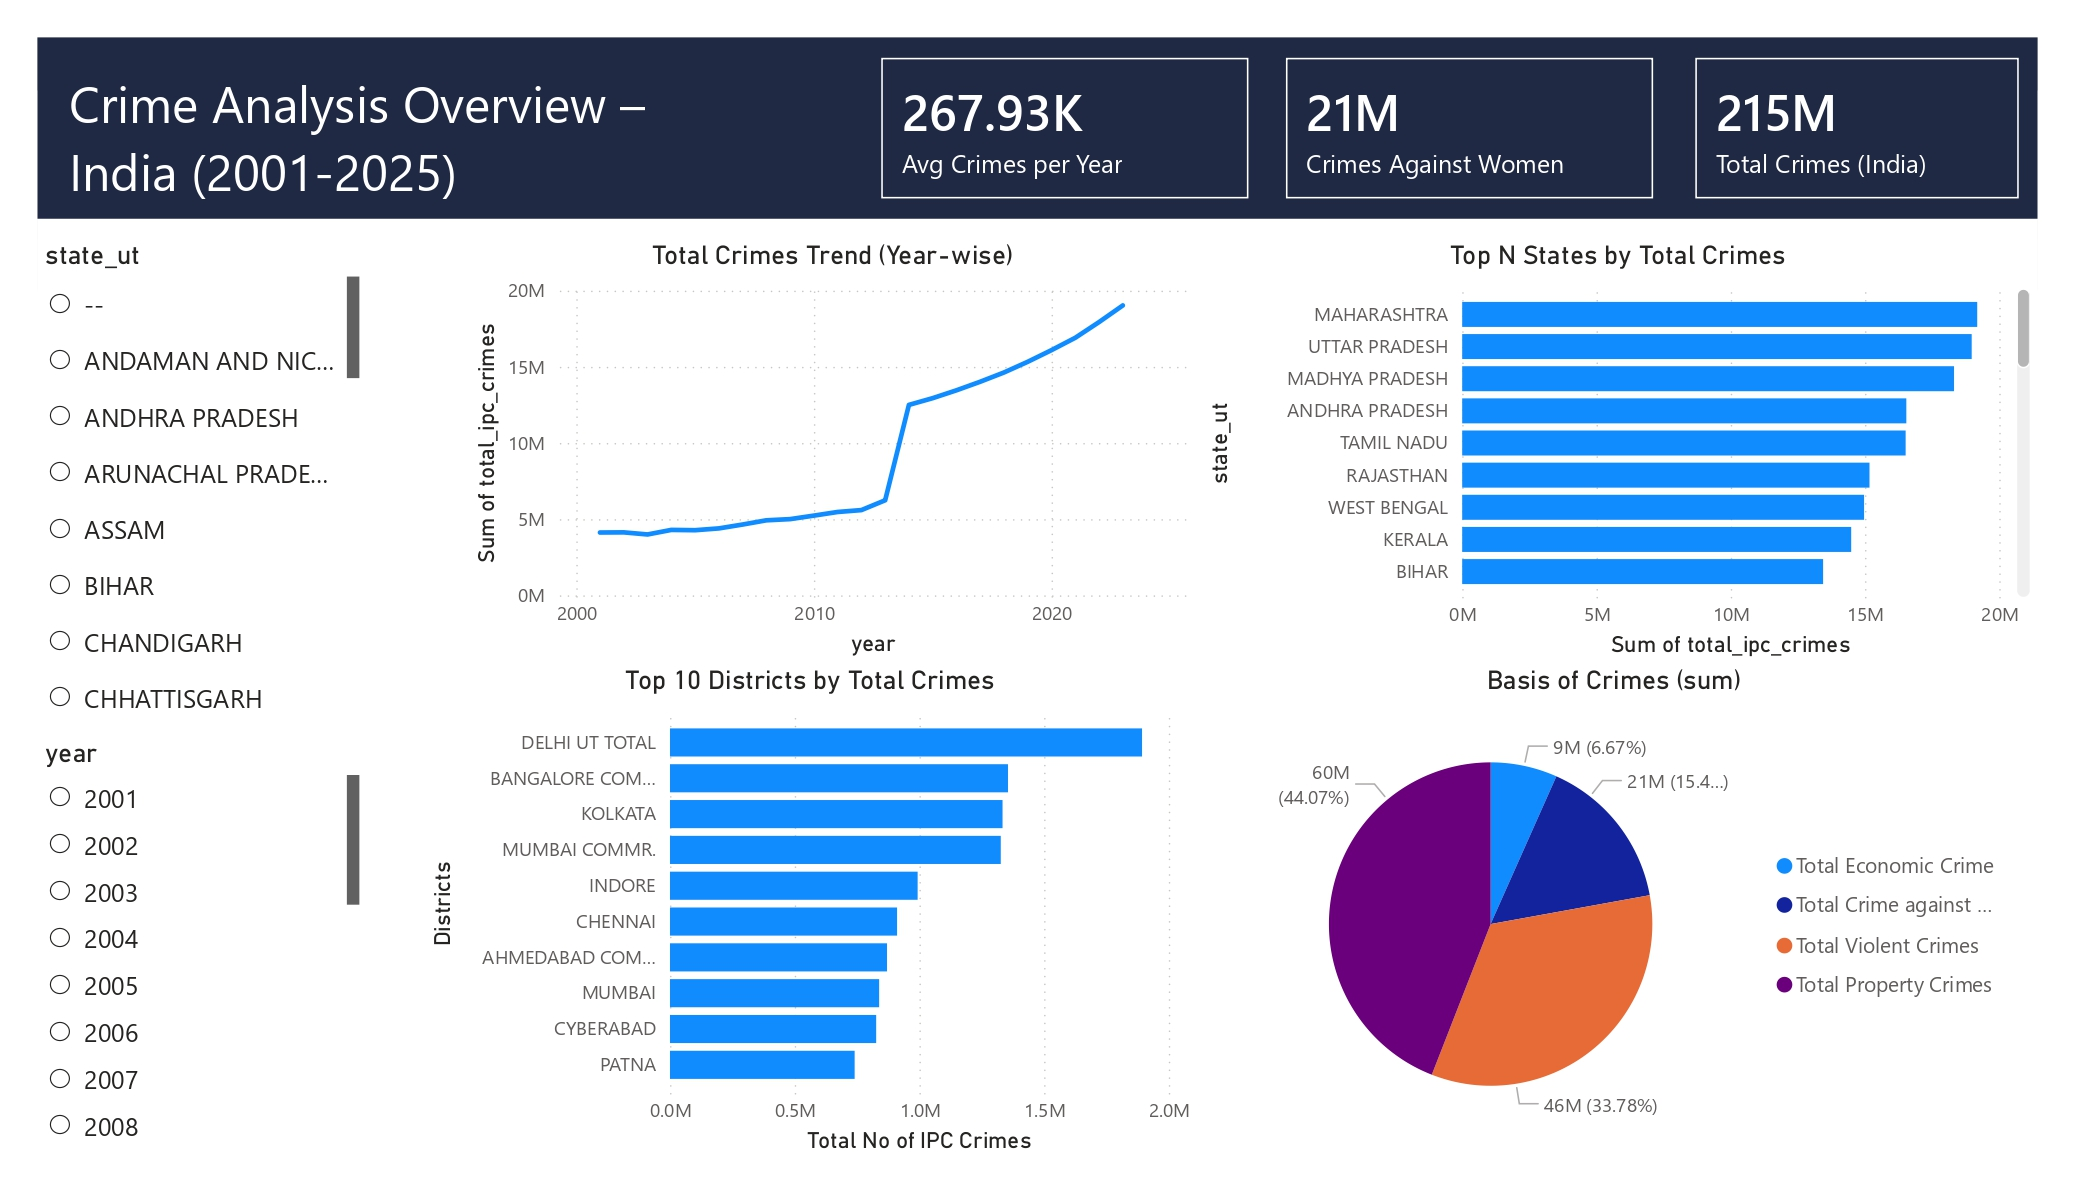

This screenshot's page, from the dashboard's own definition file:
{"tool":"powerbi","page":{"name":"Crime Analysis Overview","canvas":[1280,720],"ordinal":0},"visuals":[{"type":"shape","box":[0,0,1280,115.7],"z":0},{"type":"lineChart","title":"Total Crimes Trend (Year-wise)","fields":{"Category":["Crime State Year.year"],"Y":["Sum(Crime State Year.total_ipc_crimes)"]},"box":[273.8,128.8,468.8,272.5],"z":1000},{"type":"listSlicer","fields":{"Values":["Dim States.state_ut"]},"box":[0,128.8,211.2,318.8],"z":2000},{"type":"clusteredBarChart","title":"Top N States by Total Crimes","fields":{"Category":["Dim States.state_ut"],"Y":["Sum(Crime State Year.total_ipc_crimes)"]},"box":[742.5,128.8,537.5,272.5],"z":3000},{"type":"listSlicer","fields":{"Values":["Crime District Year.year"]},"box":[0,447.5,211.2,272.5],"z":4000},{"type":"clusteredBarChart","title":"Top 10 Districts by Total Crimes","fields":{"Category":["Crime District Year.district"],"Y":["Sum(Crime District Year.total_ipc_crimes)"]},"box":[246.2,401.2,496.2,317.5],"z":5000},{"type":"cardVisual","fields":{"Data":["Crime State Year.Crimes Against Women"]},"box":[793.8,7.5,245,100],"z":6000},{"type":"cardVisual","fields":{"Data":["Crime State Year.Total Crimes (India)"]},"box":[1056.2,7.5,217.5,100],"z":7000},{"type":"cardVisual","fields":{"Data":["Crime State Year.Avg Crimes per Year"]},"box":[535,7.5,245,100],"z":8000},{"type":"textbox","box":[15,15,498.8,113.8],"z":9000},{"type":"pieChart","title":"Basis of Crimes (sum)","fields":{"Y":["Sum(Crime State Year.economic_crime_total)","Sum(Crime State Year.women_crime_total)","Sum(Crime State Year.voilent_crime_total)","Sum(Crime State Year.property_crime_total)"]},"box":[742.5,401.2,531.2,318.8],"z":10000}]}

Visuals, with their boxes on the page's 1280x720 design canvas (x1, y1, x2, y2). These are canvas units, not pixel positions in the 2075x1200 screenshot, which may show the page scaled, cropped or inside an application window:
shape: (x1=0, y1=0, x2=1280, y2=116)
"Total Crimes Trend (Year-wise)" lineChart: (x1=274, y1=129, x2=743, y2=401)
listSlicer - Dim States.state_ut: (x1=0, y1=129, x2=211, y2=448)
"Top N States by Total Crimes" clusteredBarChart: (x1=742, y1=129, x2=1280, y2=401)
listSlicer - Crime District Year.year: (x1=0, y1=448, x2=211, y2=720)
"Top 10 Districts by Total Crimes" clusteredBarChart: (x1=246, y1=401, x2=742, y2=719)
cardVisual - Crime State Year.Crimes Against Women: (x1=794, y1=8, x2=1039, y2=108)
cardVisual - Crime State Year.Total Crimes (India): (x1=1056, y1=8, x2=1274, y2=108)
cardVisual - Crime State Year.Avg Crimes per Year: (x1=535, y1=8, x2=780, y2=108)
textbox: (x1=15, y1=15, x2=514, y2=129)
"Basis of Crimes (sum)" pieChart: (x1=742, y1=401, x2=1274, y2=720)
